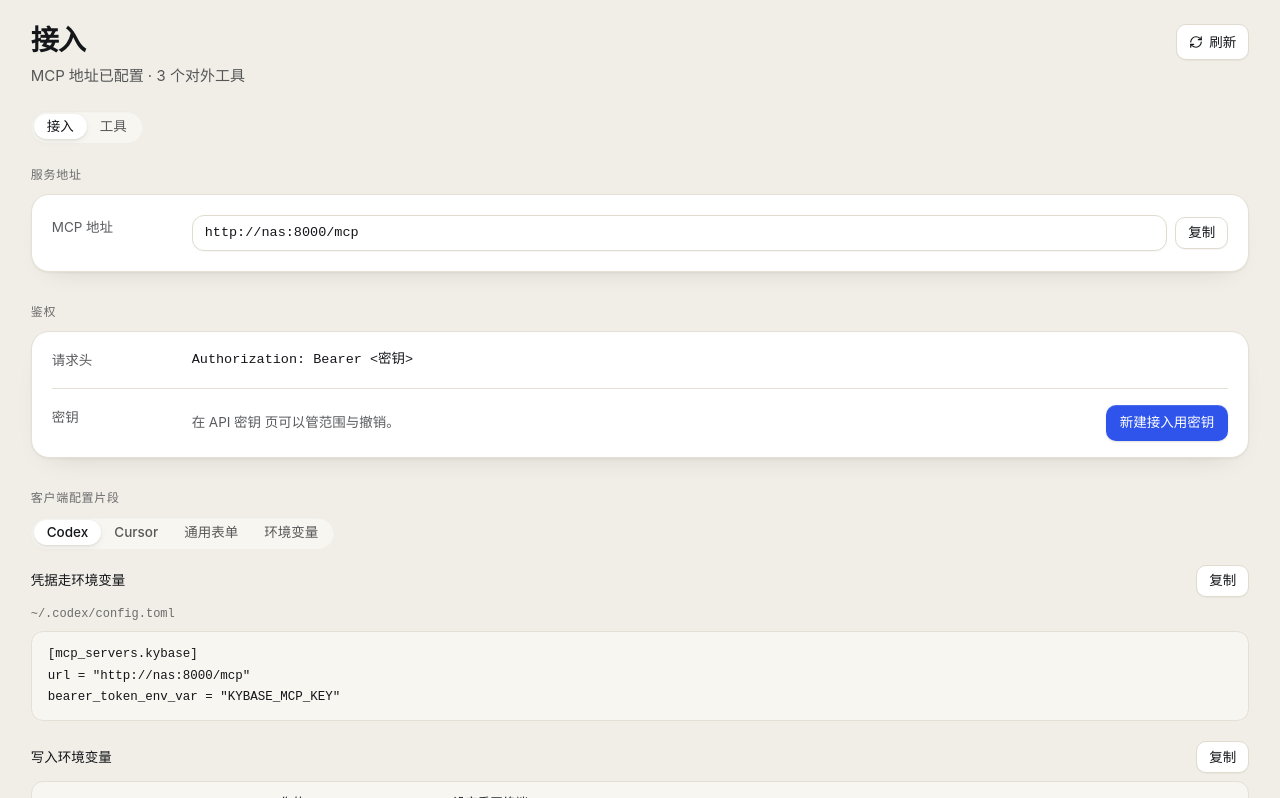
自己填一次服务地址 › 服务端给了值：默认用它，可以就地改，也可以复位回去
This screenshot has width=1280, height=798.
Check: the button "用服务端的值" is not shown
Clear the field showing "http://nas:8000/mcp" at {"x": 680, "y": 233}, box [192, 215, 1167, 251]
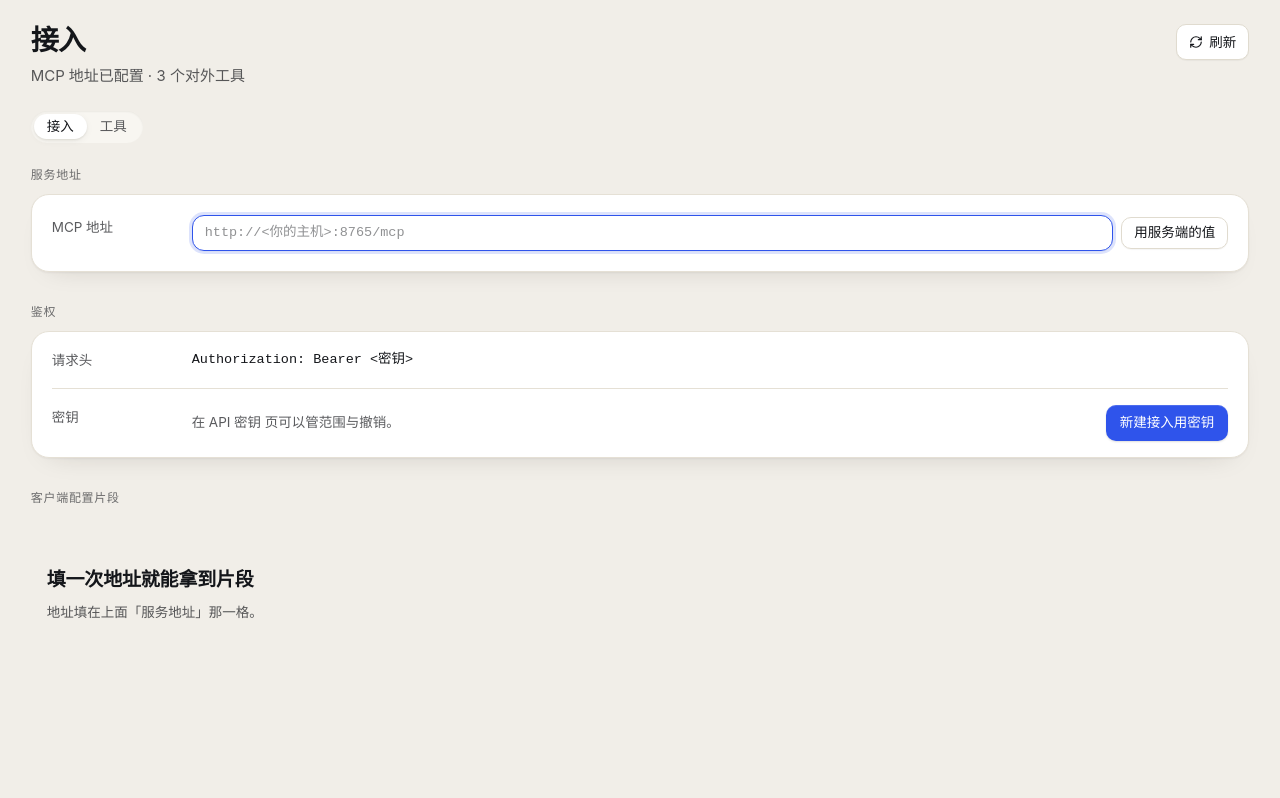
Type "http://nas:8765/mcp" into the field showing "http://nas:8000/mcp" at {"x": 652, "y": 233}, box [192, 215, 1113, 251]
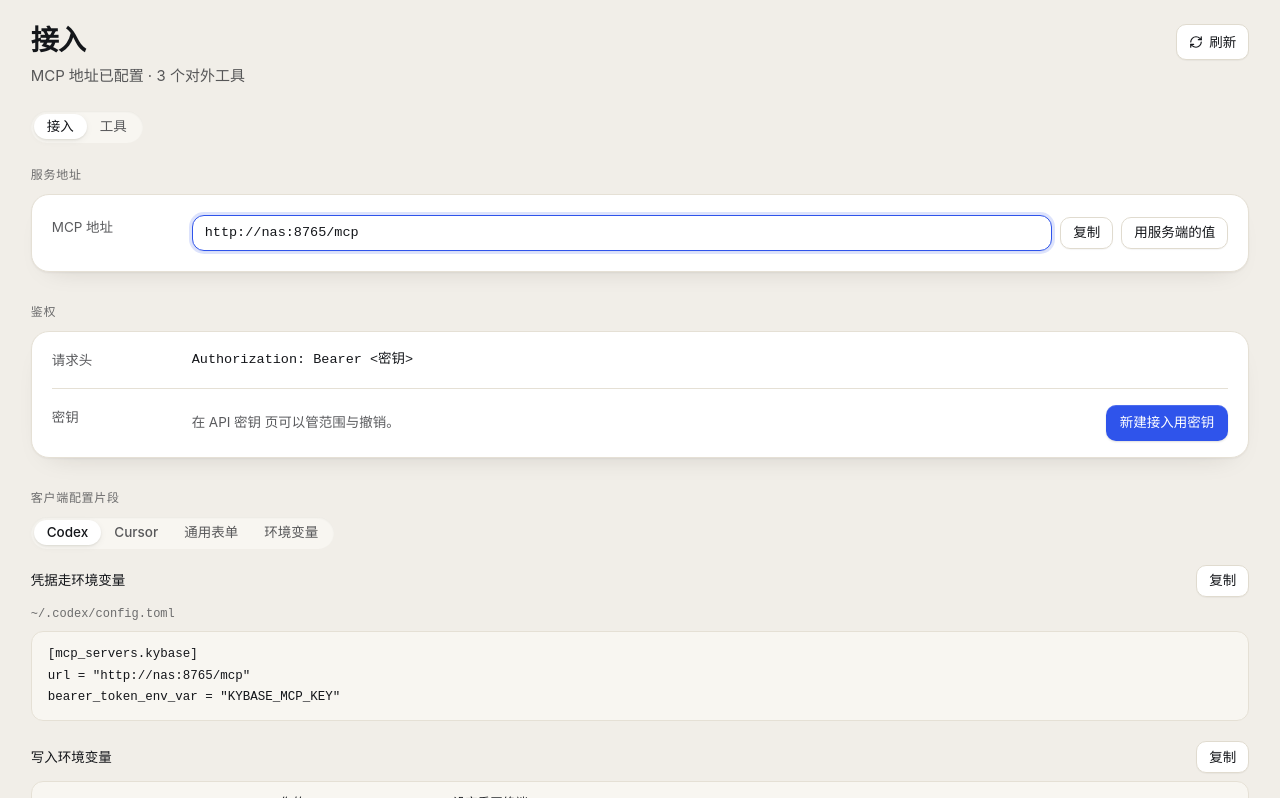
Click the button "用服务端的值" at {"x": 1175, "y": 233}, box [1121, 217, 1228, 249]
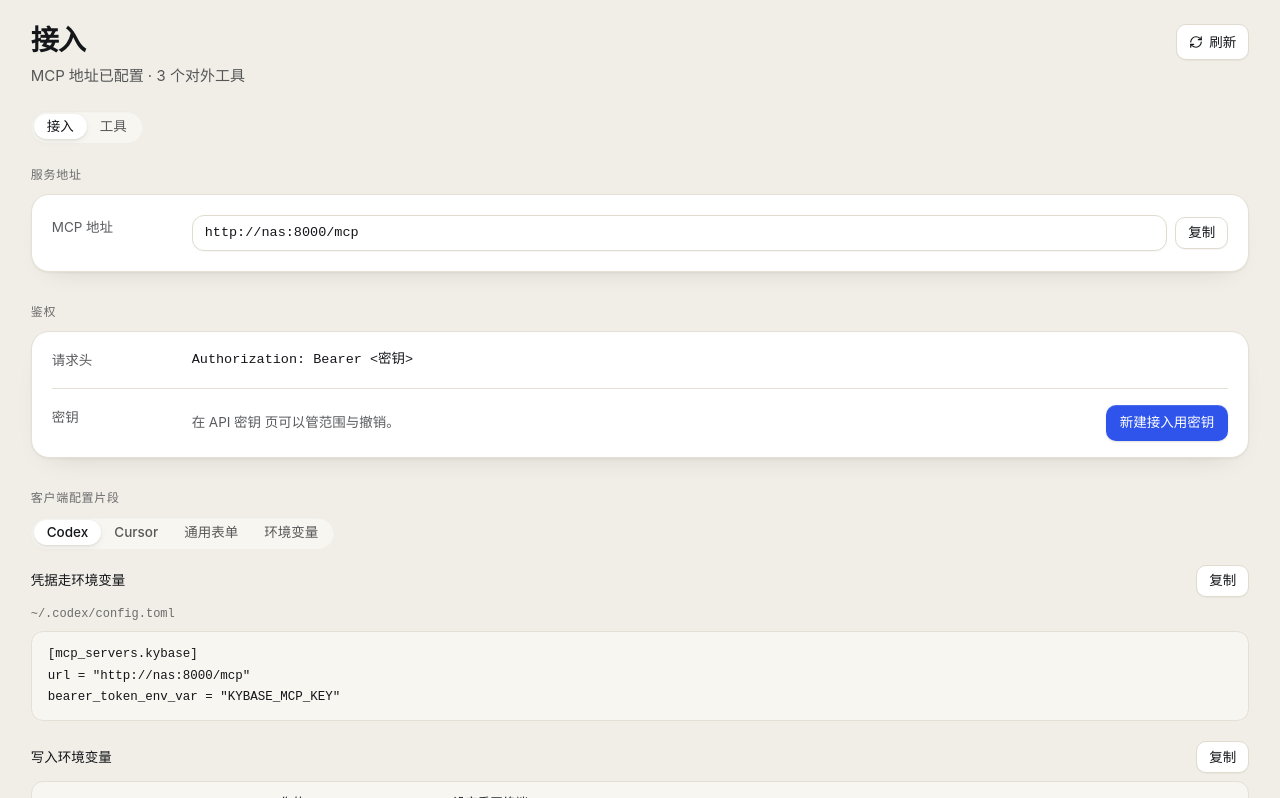
Check: the field showing "http://nas:8000/mcp" holds "http://nas:8000/mcp", box [192, 215, 1167, 251]
Check: the button "用服务端的值" is gone
